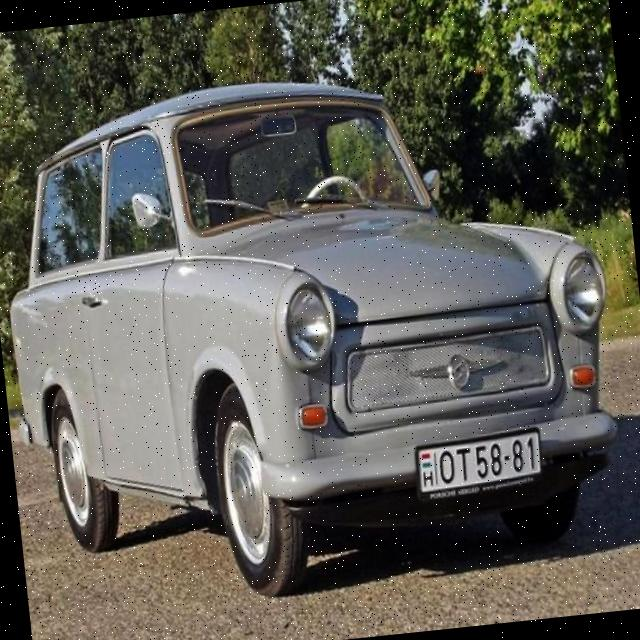licence: (412, 426, 545, 506)
